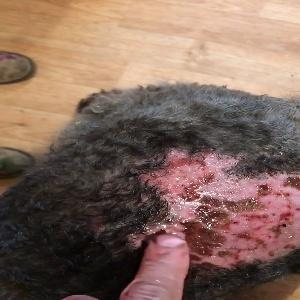skin_lesions: (134, 143, 299, 269)
